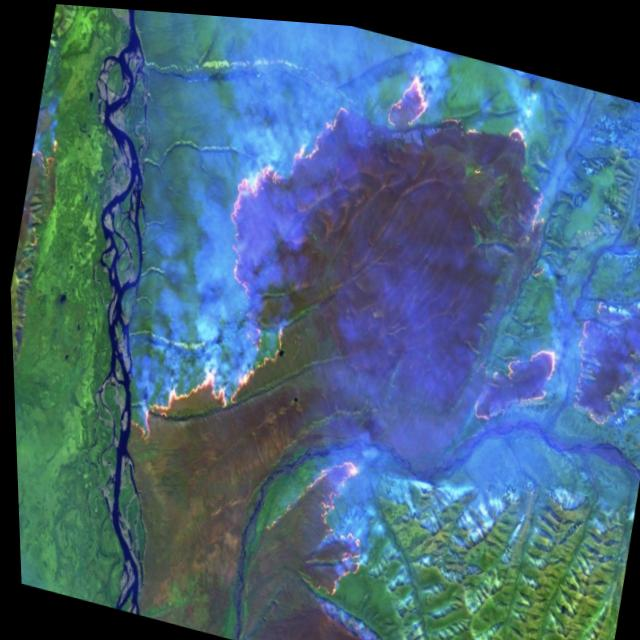fire: (62, 4, 640, 640)
